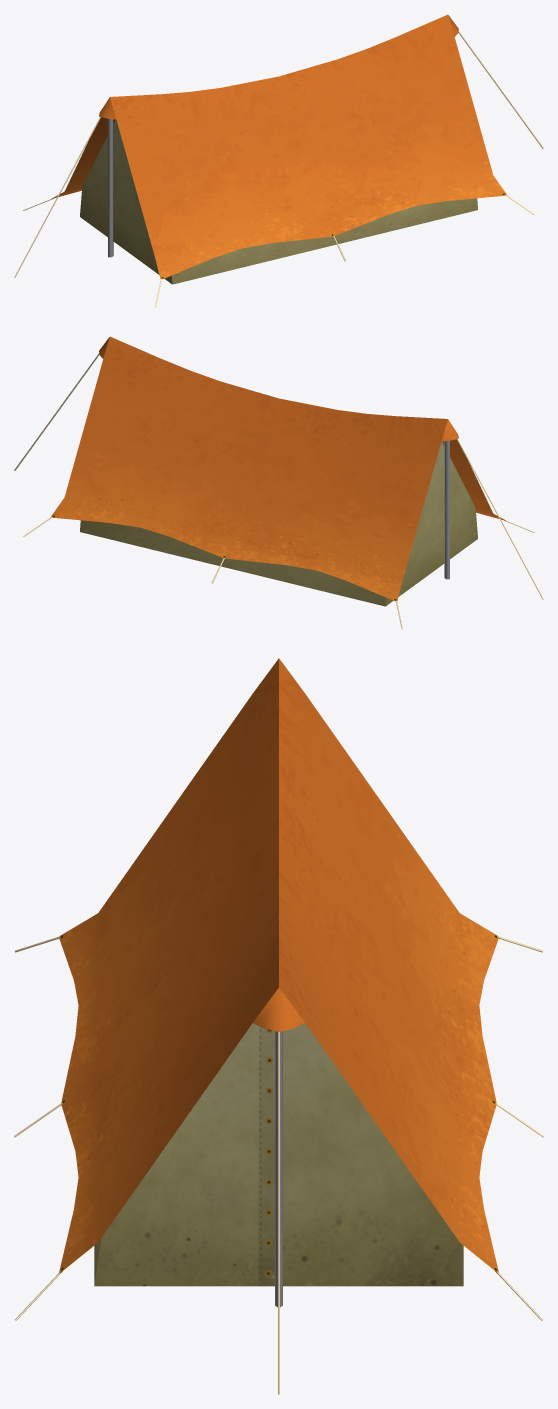
File: tent3.glb
3 renders of one model, top to bottom at view 1: azimuth 30°, elevation 25°; view 2: azimuth 150°, elevation 25°; view 3: azimuth 270°, elevation 25°, orthographic. The views are drawn at different scales.
Parts seen in each view (by area): view 1: Object001__0; view 2: Object001__0; view 3: Object001__0.
Boxes of the visible parts, <box> form: Object001__0: <box>14,14,543,307</box>; Object001__0: <box>14,336,543,629</box>; Object001__0: <box>14,658,543,1394</box>.
Bounding box in the file's own units: 7 × 2.02 × 3.04.
1 material, 1 textured.
